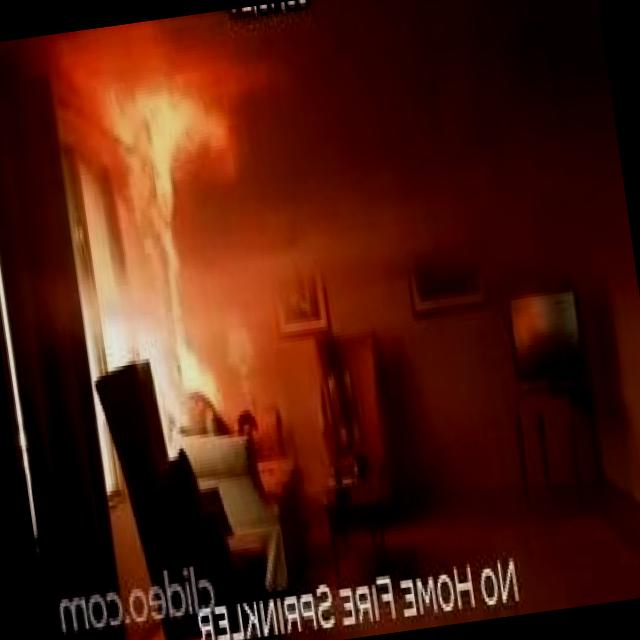fire: (78, 12, 282, 474)
